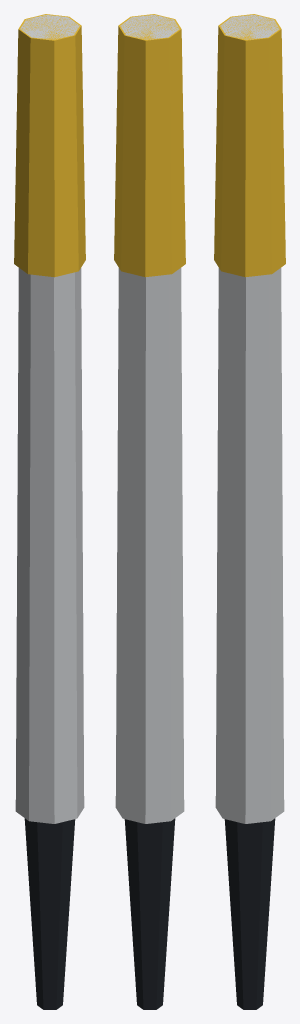
Rendered from boundary_post.glb.
3 renders of one model, left to right at view 1: azimuth 30°, elevation 25°; view 2: azimuth 150°, elevation 25°; view 3: azimuth 330°, elevation 25°, orthographic.
Parts seen in each view (by area): view 1: boundary_post; view 2: boundary_post; view 3: boundary_post.
Boxes of the visible parts, left/top/right/bottom form: boundary_post: left=14, top=14, right=85, bottom=1009; boundary_post: left=114, top=14, right=185, bottom=1009; boundary_post: left=214, top=14, right=285, bottom=1009.
Bounding box in the file's own units: 0.0776 × 1.25 × 0.0776.
